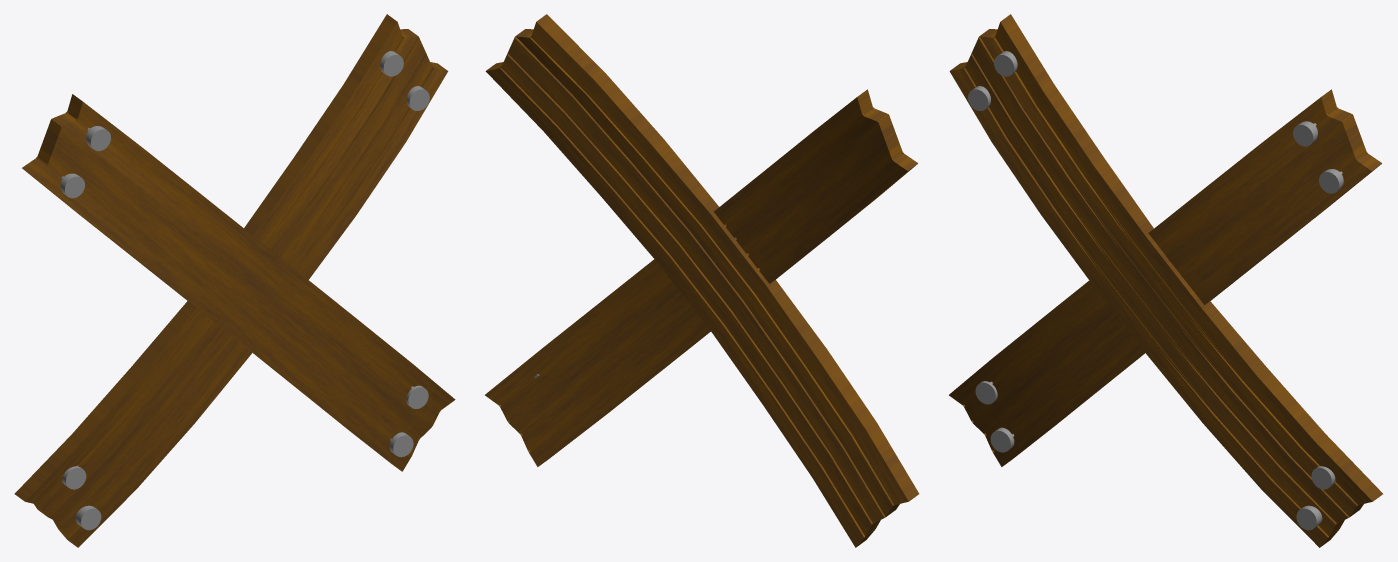
File: cross.obj
The picture shows the model from 3 angles, left to right: view 1: azimuth 30°, elevation 25°; view 2: azimuth 150°, elevation 25°; view 3: azimuth 330°, elevation 25°; orthographic projection.
Visible parts, largest first — view 1: 円柱.003; view 2: 円柱.003; view 3: 円柱.003.
Boxes of the visible parts, x1,y1,x2,y2 form: 円柱.003: [14, 14, 455, 547]; 円柱.003: [485, 14, 919, 547]; 円柱.003: [949, 14, 1382, 547].
Bounding box in the file's own units: 2.17 × 2.17 × 0.246.
4 materials, 4 textured.
